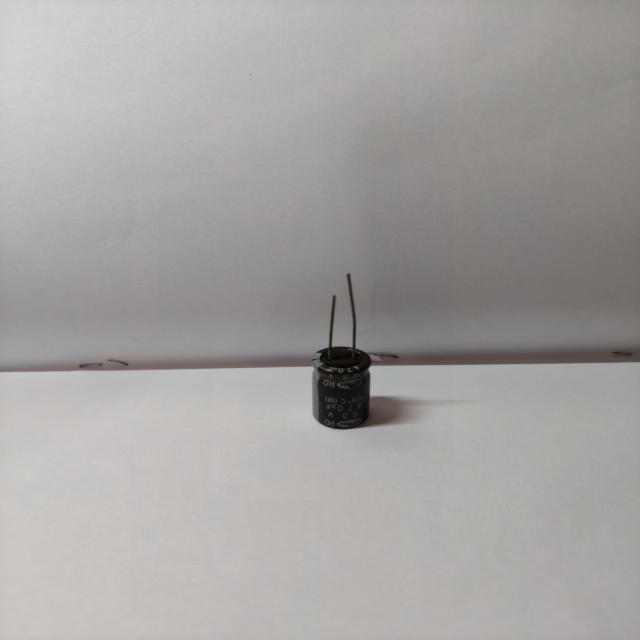capacitor: (306, 264, 379, 436)
